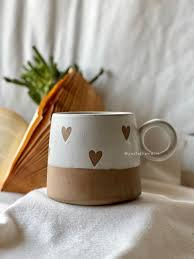mug: (36, 96, 180, 218)
